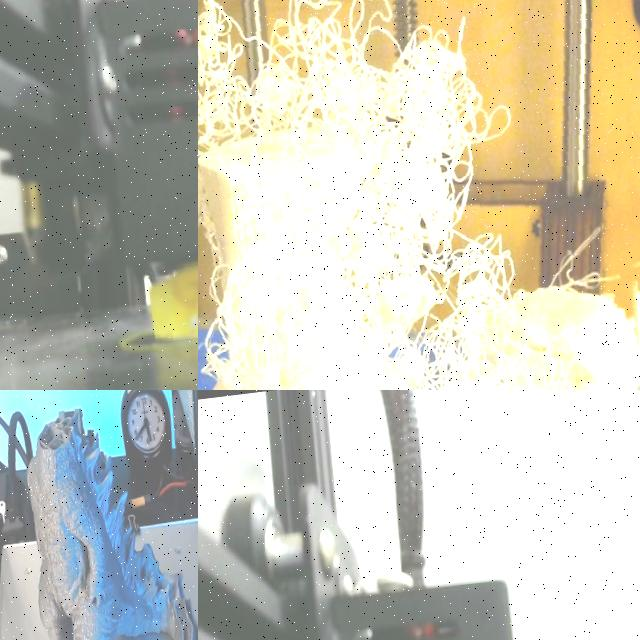spaghetti: (198, 0, 640, 390), (150, 264, 198, 338)
